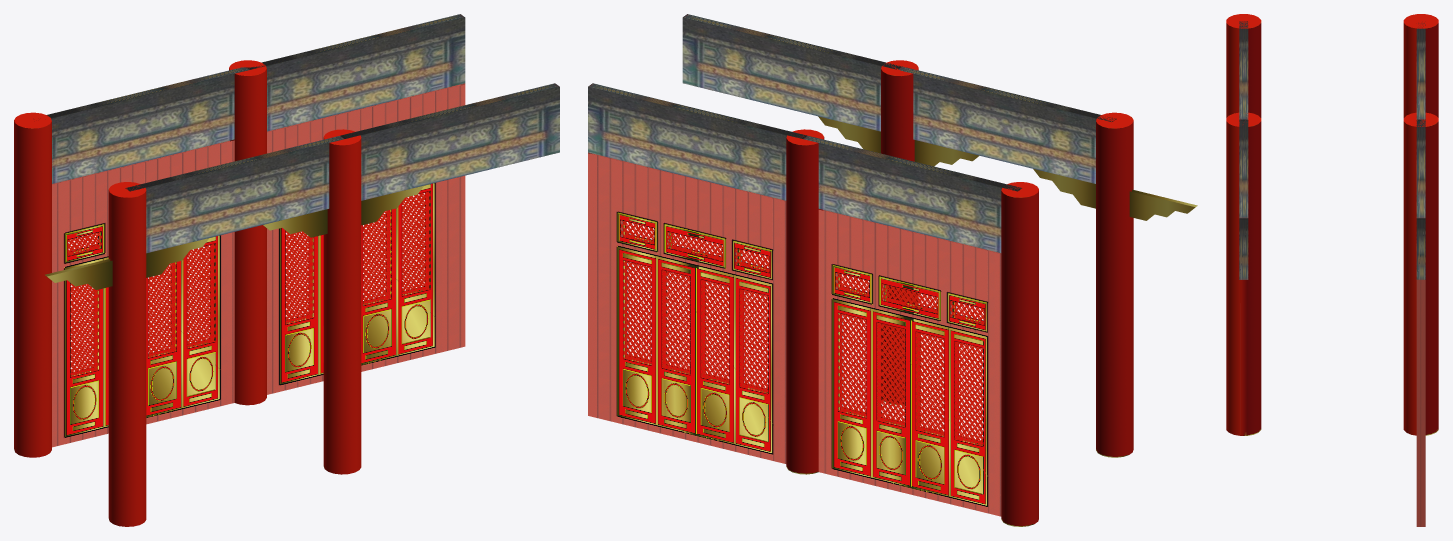
File: colwallwall.dae
3 renders of one model, left to right at view 1: azimuth 30°, elevation 25°; view 2: azimuth 150°, elevation 25°; view 3: azimuth 270°, elevation 25°, orthographic. The views are drawn at different scales.
Parts seen in each view (by area): view 1: MainNode; view 2: MainNode; view 3: MainNode.
Part boxes in pixels (x1,y1,x2,y2): MainNode: (14,14,559,526); MainNode: (588,14,1197,526); MainNode: (1226,14,1438,526).
Bounding box in the file's own units: 7.81 × 4.8 × 2.99.
Materials: 1 (1 with a texture image).
